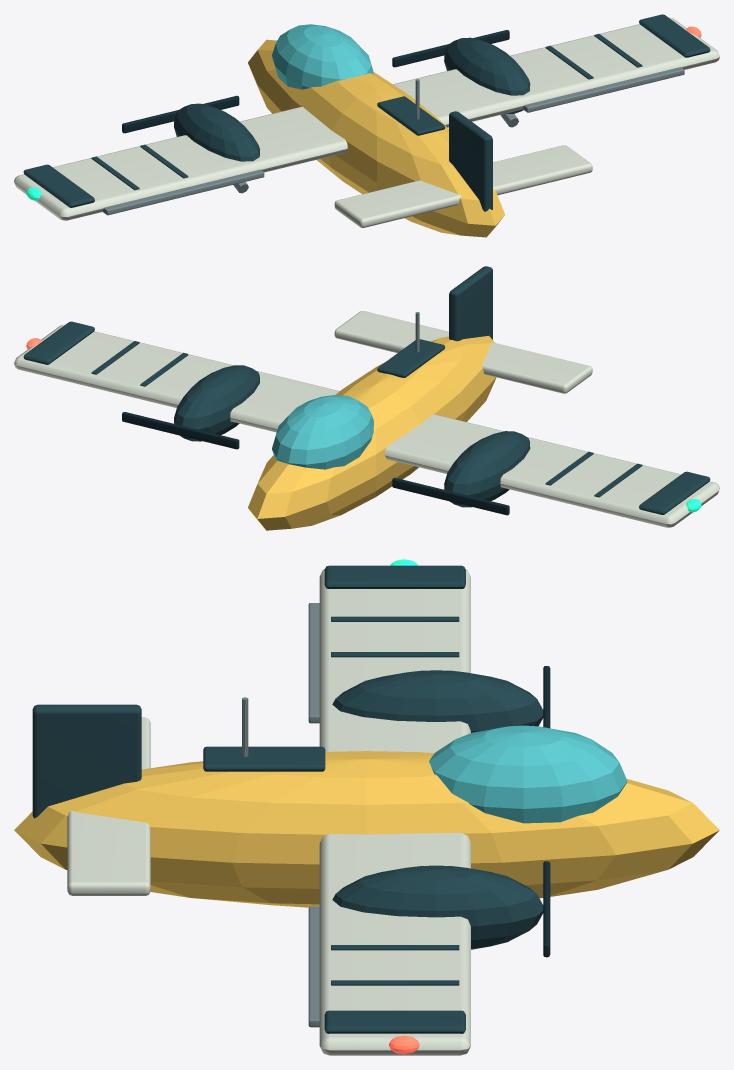
3 views of the same model, one above another, from view 1: azimuth 30°, elevation 25°; view 2: azimuth 150°, elevation 25°; view 3: azimuth 270°, elevation 25° (orthographic). The views are drawn at different scales.
Parts seen in each view (by area): view 1: plane_deck, Fuselage, plane_hull, Cockpit, plane_steel, Propeller blade, Propeller blade.001; view 2: plane_deck, Fuselage, plane_hull, Cockpit, Propeller blade.001, Propeller blade; view 3: Fuselage, plane_deck, plane_hull, Cockpit, plane_steel.
Boxes of the visible parts, box(x1,y1,x2,y2) form: plane_deck: box(14, 17, 719, 227); Fuselage: box(248, 39, 504, 237); plane_hull: box(23, 14, 710, 211); Cockpit: box(272, 24, 373, 89); plane_steel: box(102, 67, 684, 215); Propeller blade: box(122, 95, 239, 133); Propeller blade.001: box(392, 30, 509, 67); plane_deck: box(14, 311, 719, 527); Fuselage: box(248, 336, 496, 530); plane_hull: box(23, 266, 710, 514); Cockpit: box(272, 395, 373, 469); Propeller blade.001: box(122, 412, 239, 449); Propeller blade: box(392, 477, 509, 515); Fuselage: box(14, 751, 719, 907); plane_deck: box(67, 569, 470, 1055); plane_hull: box(32, 565, 543, 1033); Cockpit: box(429, 725, 627, 823); plane_steel: box(242, 603, 319, 1027).
Size of the model in its own units: 8.95 by 1.74 by 5.5.
